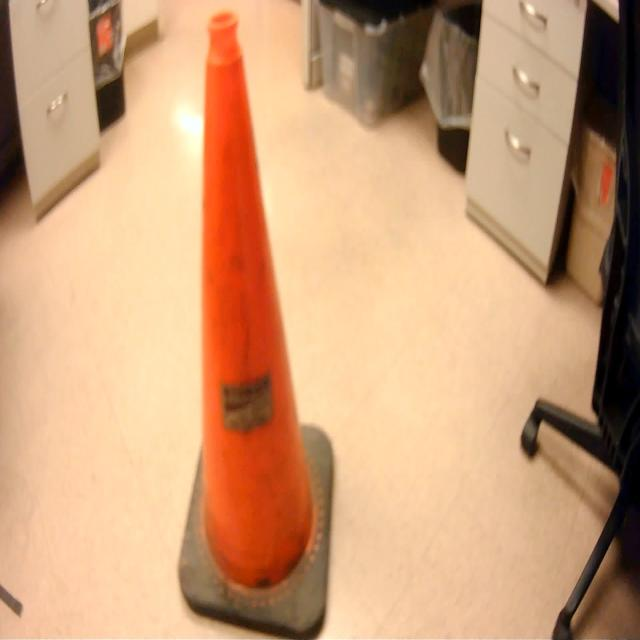traffic cone: (173, 4, 338, 640)
